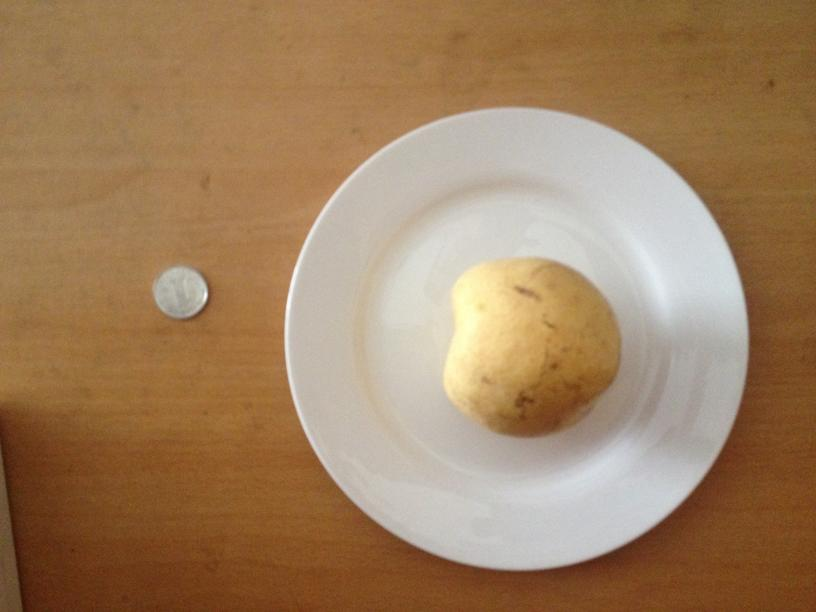coin: (150, 265, 211, 319)
pear: (441, 257, 621, 436)
